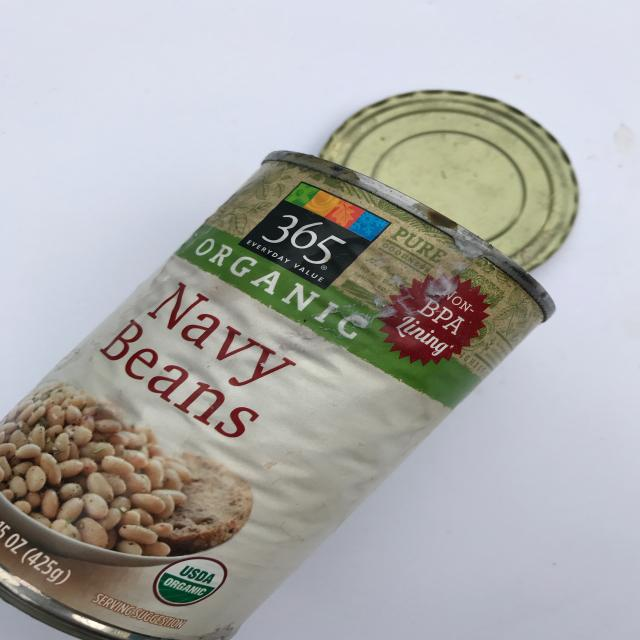metal: (0, 70, 597, 640)
